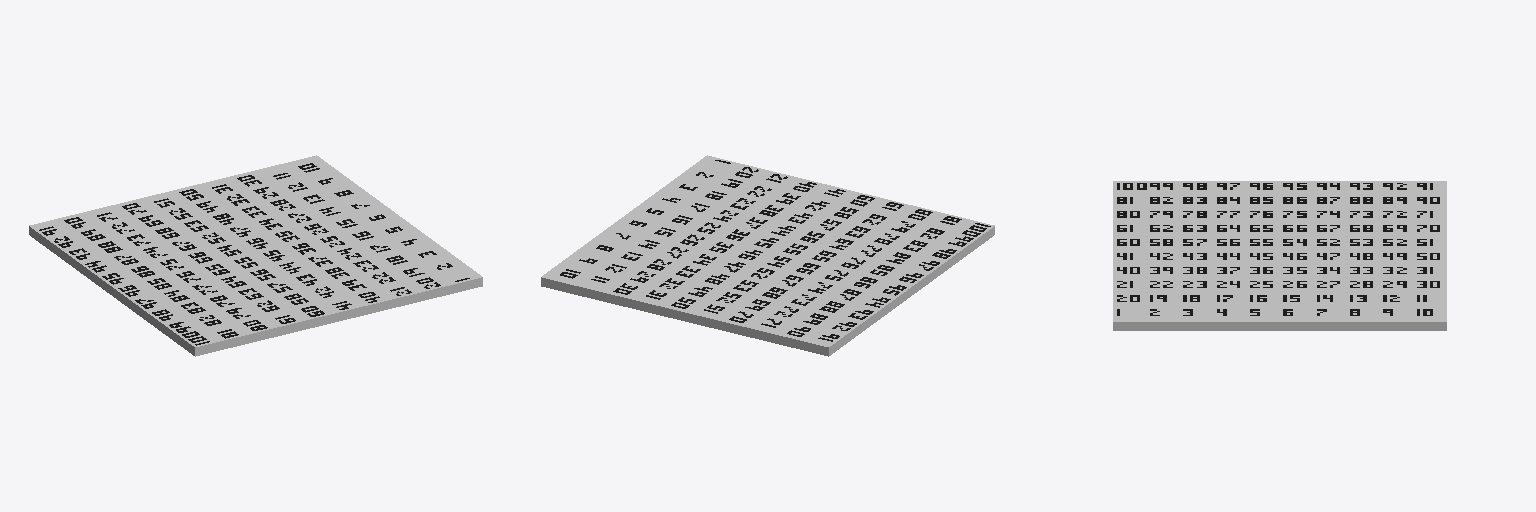
3 views of the same model, side by side, from view 1: azimuth 30°, elevation 25°; view 2: azimuth 150°, elevation 25°; view 3: azimuth 270°, elevation 25° (orthographic).
Visible parts, largest first — view 1: object 1; view 2: object 1; view 3: object 1.
Part boxes in pixels (left/top/right/bottom): object 1: left=29, top=155, right=482, bottom=356; object 1: left=541, top=155, right=994, bottom=356; object 1: left=1113, top=181, right=1446, bottom=330.
Bounding box in the file's own units: 10 × 0.3 × 10.
1 materials, 1 textured.